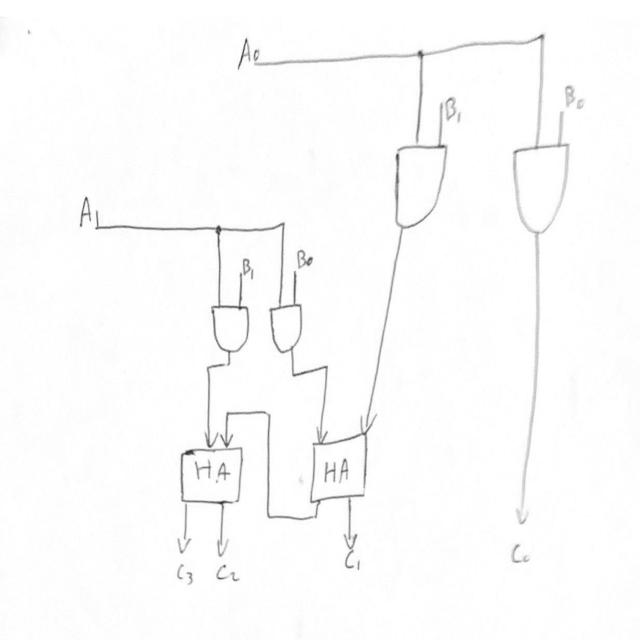AND: (505, 134, 586, 246), (389, 139, 455, 237), (206, 299, 253, 362), (265, 297, 310, 359)
